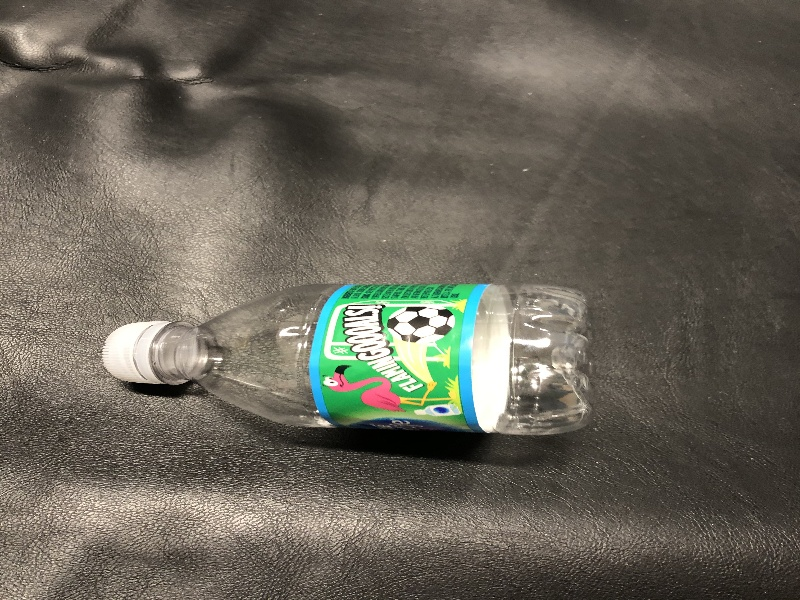plastic: (84, 268, 607, 459)
